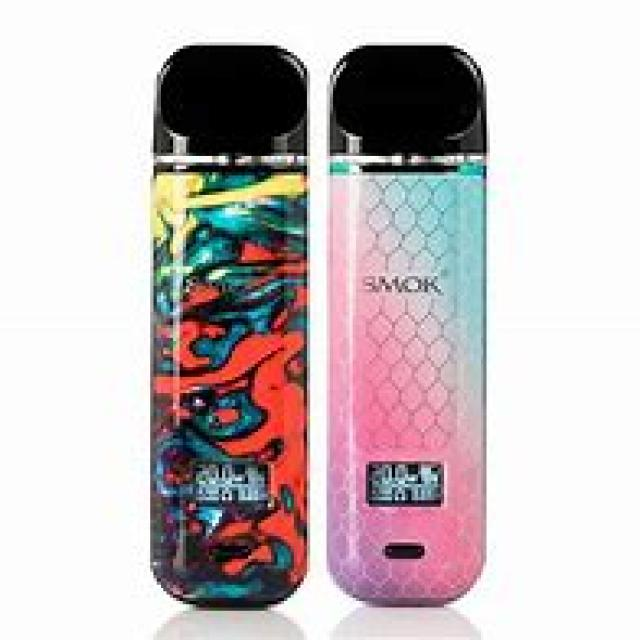Hazard: (147, 42, 310, 608), (323, 42, 487, 604)
